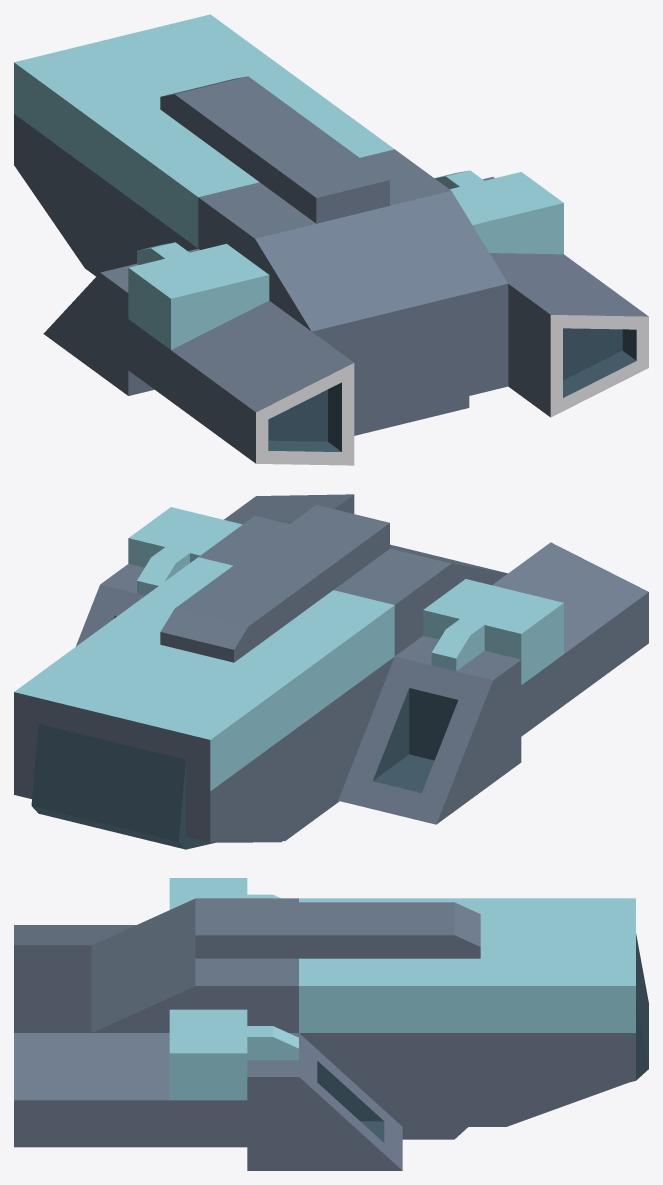
Rendered from navette-cargo.lod0.glb.
3 views of the same model, one above another, from view 1: azimuth 30°, elevation 25°; view 2: azimuth 150°, elevation 25°; view 3: azimuth 270°, elevation 25° (orthographic). The views are drawn at different scales.
Parts seen in each view (by area): view 1: craft_cargoA; view 2: craft_cargoA; view 3: craft_cargoA.
Boxes of the visible parts, x1,y1,x2,y2 form: craft_cargoA: [14, 14, 648, 465]; craft_cargoA: [14, 494, 648, 849]; craft_cargoA: [14, 878, 648, 1170].
Bounding box in the file's own units: 15.67 × 7.84 × 24.
Materials: 1 (1 with a texture image).
